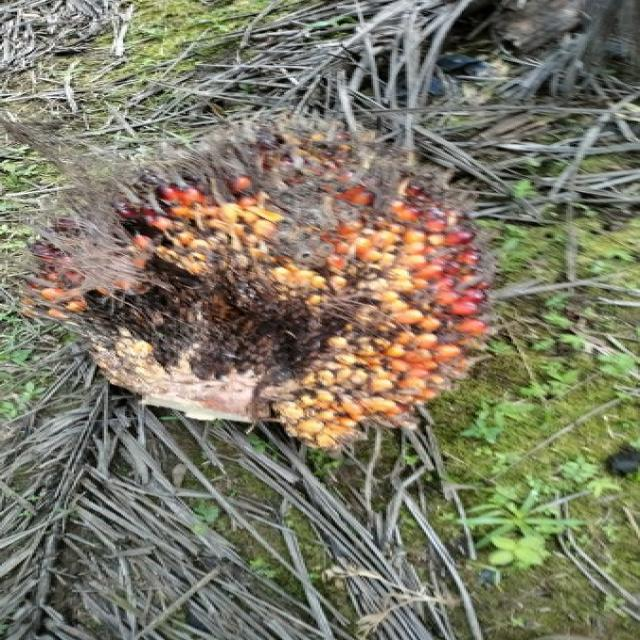fraksi 1: (15, 87, 547, 478)
